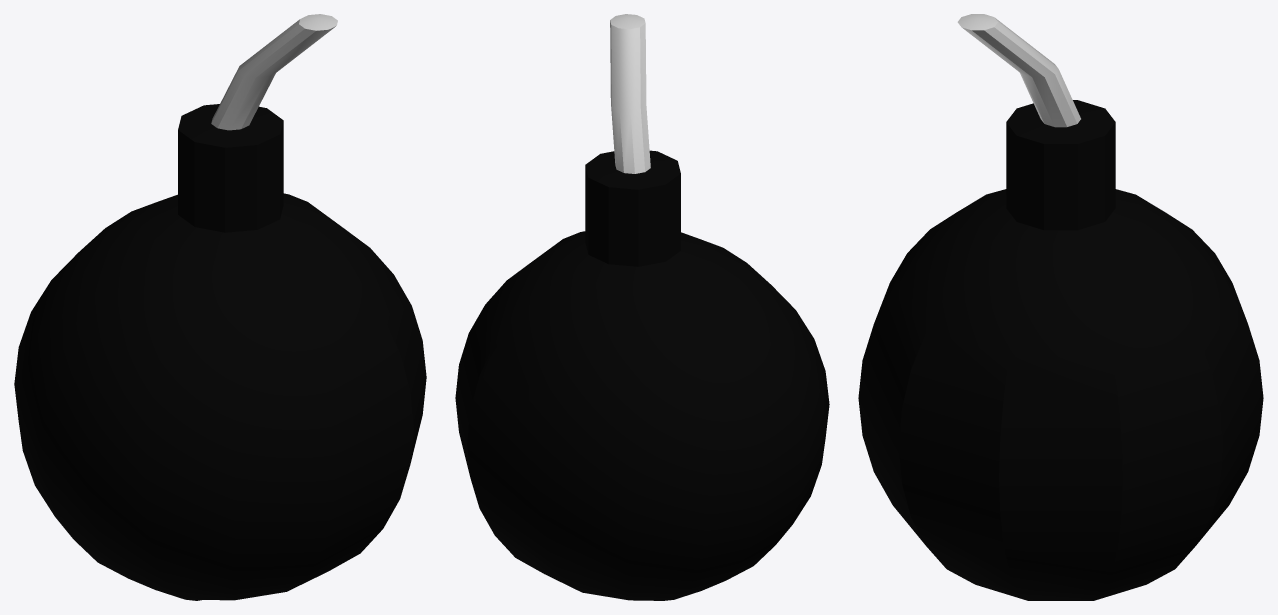
Rendered from Bomba.fbx.
The picture shows the model from 3 angles, left to right: view 1: azimuth 30°, elevation 25°; view 2: azimuth 150°, elevation 25°; view 3: azimuth 270°, elevation 25°; orthographic projection. The views are drawn at different scales.
Parts seen in each view (by area): view 1: Interior.001; view 2: Interior.001; view 3: Interior.001.
Boxes of the visible parts, x1,y1,x2,y2 form: Interior.001: [14, 14, 426, 600]; Interior.001: [455, 14, 829, 600]; Interior.001: [858, 14, 1263, 600].
Size of the model in its own units: 51.45 by 79.91 by 50.12.
